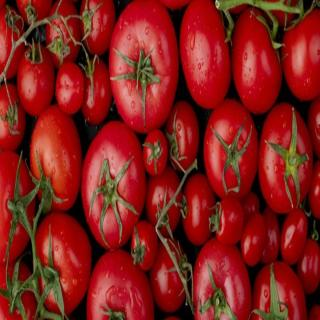Tomat: (35, 212, 93, 316), (260, 103, 314, 214), (30, 105, 83, 213), (204, 100, 259, 201), (193, 238, 252, 320), (87, 249, 155, 320)
